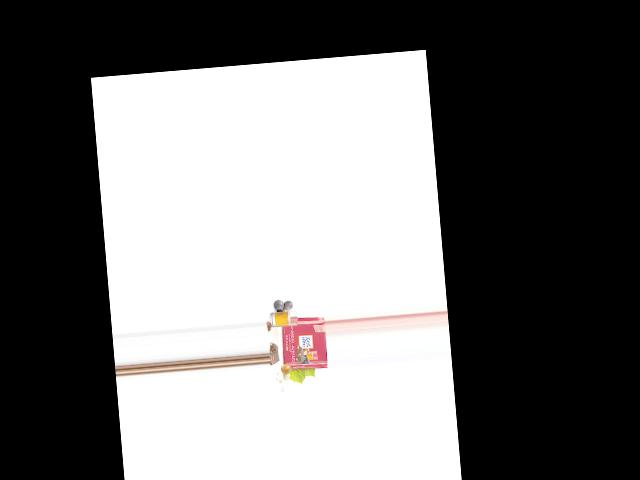chocolate: (280, 316, 328, 372)
